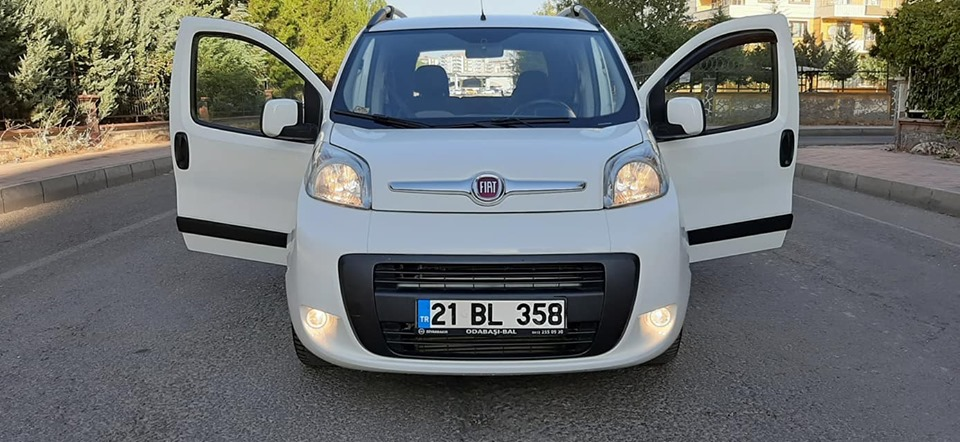plate: (415, 303, 567, 332)
